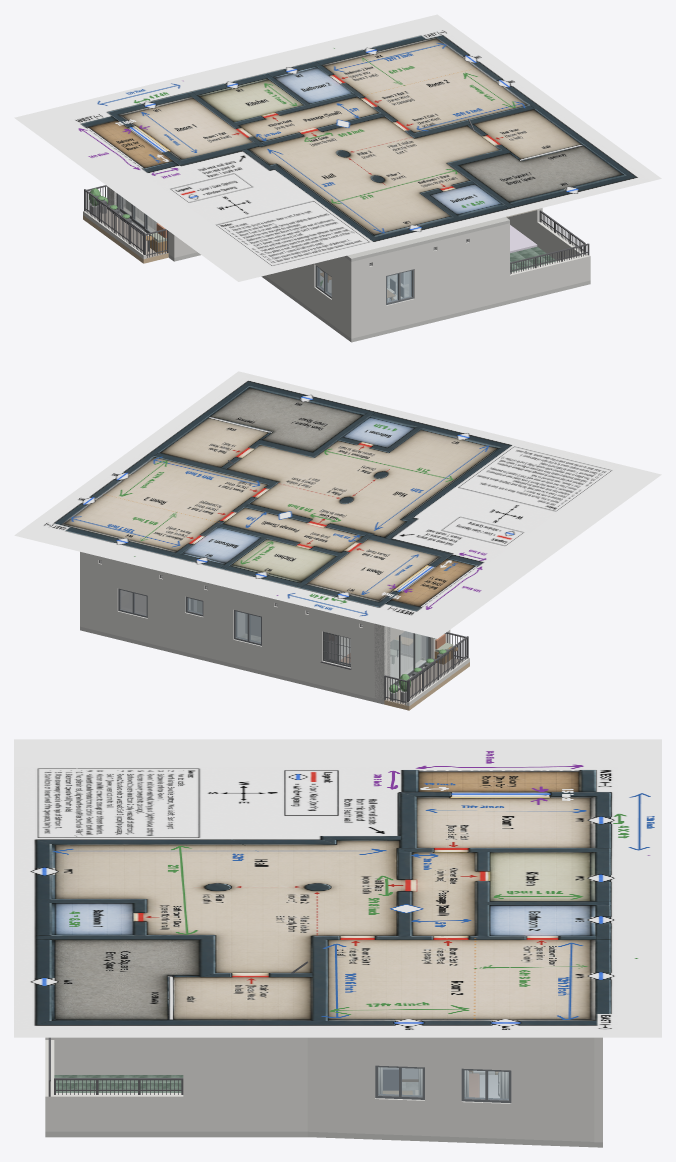
File: MyFlat_V2_Hall_LongLasting.glb
3 views of the same model, one above another, from view 1: azimuth 30°, elevation 25°; view 2: azimuth 150°, elevation 25°; view 3: azimuth 270°, elevation 25° (orthographic). The views are drawn at different scales.
Parts seen in each view (by area): view 1: PLAN_REFERENCE_OVERLAY, WALL_EXT_S_HALL, WALL_EXT_W_HALL, PARAPET_OPENSQ_S, SLAB_FLOOR_STRUCTURAL, BALCONY_RAILING_W, SLAB_ROOF, PARAPET_OPENSQ_E, RAILING_OPENSQ_S, R1_DEF_BALCONY_FLOOR_FINISH, WALL_EXT_E_STAIR, HL_OPENSQ_FINISH (+2 smaller); view 2: PLAN_REFERENCE_OVERLAY, WALL_EXT_N_R1, WALL_EXT_N_R2, WALL_EXT_N_KIT, WALL_EXT_N_B2, BALCONY_RAILING_W, SLAB_FLOOR_STRUCTURAL, PILLAR_R1_NW, R1_DEF_BALCONY_CURTAIN_SHEER, R1_DEF_BALCONY_FLOOR_FINISH, WINDOW_W2_GLASS, WALL_EXT_W_R1_BALCONY (+1 smaller); view 3: PLAN_REFERENCE_OVERLAY, WALL_EXT_E_R2_TAPERED, WALL_EXT_E_STAIR, PARAPET_OPENSQ_E, WALL_INT_OPENSQ_W, SLAB_FLOOR_STRUCTURAL, HL_OPENSQ_FINISH, WINDOW_W5_GLASS, WINDOW_W6_GLASS, RAILING_OPENSQ_E, WALL_EXT_N_R2, PARAPET_OPENSQ_S (+2 smaller).
Boxes of the visible parts, x1,y1,x2,y2 form: PLAN_REFERENCE_OVERLAY: (14, 14, 661, 281); WALL_EXT_S_HALL: (348, 223, 509, 338); WALL_EXT_W_HALL: (265, 256, 356, 338); PARAPET_OPENSQ_S: (510, 254, 590, 299); SLAB_FLOOR_STRUCTURAL: (168, 252, 590, 342); BALCONY_RAILING_W: (84, 189, 145, 254); SLAB_ROOF: (344, 217, 509, 261); PARAPET_OPENSQ_E: (537, 221, 587, 260); RAILING_OPENSQ_S: (510, 243, 589, 274); R1_DEF_BALCONY_FLOOR_FINISH: (96, 209, 168, 258); WALL_EXT_E_STAIR: (507, 208, 542, 244); HL_OPENSQ_FINISH: (510, 246, 556, 272); PLAN_REFERENCE_OVERLAY: (14, 371, 661, 638); WALL_EXT_N_R1: (283, 601, 387, 700); WALL_EXT_N_R2: (80, 553, 176, 649); WALL_EXT_N_KIT: (211, 584, 283, 676); WALL_EXT_N_B2: (177, 575, 211, 658); BALCONY_RAILING_W: (407, 636, 468, 701); SLAB_FLOOR_STRUCTURAL: (80, 626, 384, 704); PILLAR_R1_NW: (374, 623, 390, 700); R1_DEF_BALCONY_CURTAIN_SHEER: (390, 631, 421, 681); R1_DEF_BALCONY_FLOOR_FINISH: (385, 658, 462, 705); WINDOW_W2_GLASS: (236, 611, 260, 642); WALL_EXT_W_R1_BALCONY: (375, 624, 449, 698); PLAN_REFERENCE_OVERLAY: (14, 739, 661, 1037); WALL_EXT_E_R2_TAPERED: (307, 1037, 594, 1141); WALL_EXT_E_STAIR: (183, 1037, 307, 1131); PARAPET_OPENSQ_E: (54, 1093, 183, 1131); WALL_INT_OPENSQ_W: (54, 1037, 183, 1074); SLAB_FLOOR_STRUCTURAL: (45, 1131, 602, 1147); HL_OPENSQ_FINISH: (54, 1075, 183, 1092); WINDOW_W5_GLASS: (464, 1070, 508, 1099); WINDOW_W6_GLASS: (378, 1067, 422, 1096); RAILING_OPENSQ_E: (54, 1078, 183, 1094); WALL_EXT_N_R2: (594, 1037, 602, 1142); PARAPET_OPENSQ_S: (45, 1040, 54, 1131).
Size of what is drawn, in the model's own units: 18.03 by 4.33 by 16.55.
127 materials, 6 textured.
